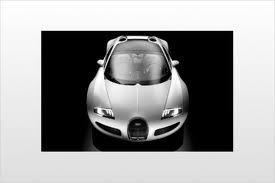car: (86, 38, 197, 151)
